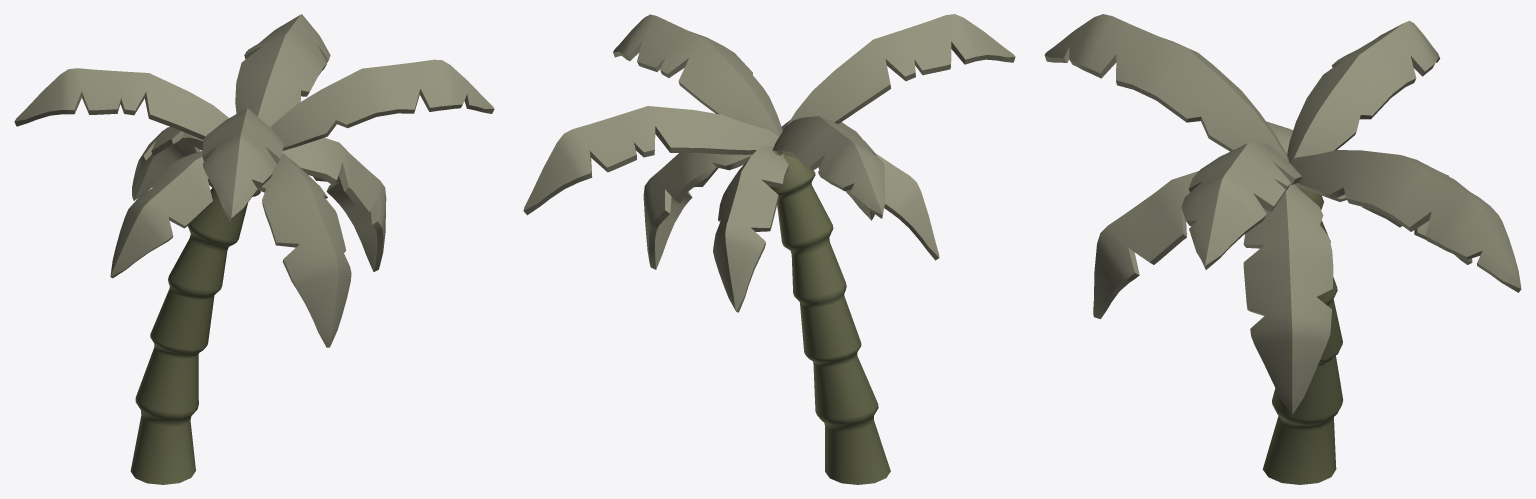
File: palm-2.glb
The picture shows the model from 3 angles, left to right: view 1: azimuth 30°, elevation 25°; view 2: azimuth 150°, elevation 25°; view 3: azimuth 270°, elevation 25°; orthographic projection. The views are drawn at different scales.
Parts seen in each view (by area): view 1: Environment_PalmTree_2; view 2: Environment_PalmTree_2; view 3: Environment_PalmTree_2.
Part boxes in pixels (left/top/right/bottom): Environment_PalmTree_2: left=14, top=14, right=494, bottom=484; Environment_PalmTree_2: left=523, top=14, right=1015, bottom=484; Environment_PalmTree_2: left=1044, top=14, right=1521, bottom=484.
Size of the model in its own units: 2.64 by 2.69 by 2.58.
1 material, 1 textured.
